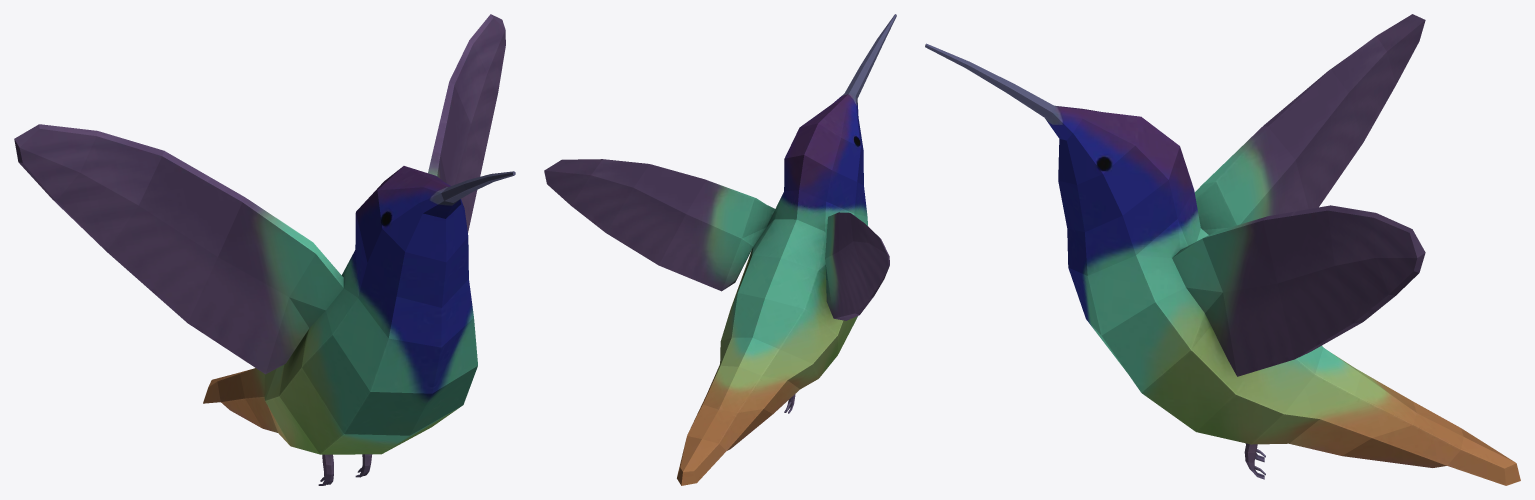
The model's file is 70NyKFt-vLF.glb.
3 renders of one model, left to right at view 1: azimuth 30°, elevation 25°; view 2: azimuth 150°, elevation 25°; view 3: azimuth 270°, elevation 25°, orthographic. The views are drawn at different scales.
Visible parts, largest first — view 1: Hummingbird_Mesh; view 2: Hummingbird_Mesh; view 3: Hummingbird_Mesh.
Boxes of the visible parts, bbox=[...] form: Hummingbird_Mesh: bbox=[14, 14, 515, 485]; Hummingbird_Mesh: bbox=[544, 14, 896, 485]; Hummingbird_Mesh: bbox=[925, 14, 1520, 485].
Bounding box in the file's own units: 1.14 × 1 × 1.23.
1 material, 1 textured.
